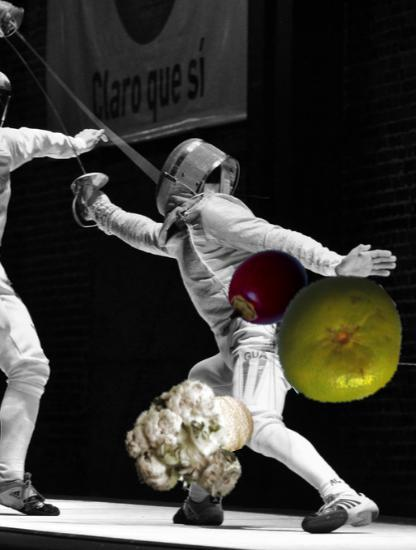Cantaloupe: (198, 395, 255, 452)
Cauliflower: (129, 386, 253, 510)
Pomelo: (273, 273, 407, 407)
Tamarillo: (222, 246, 310, 334)
